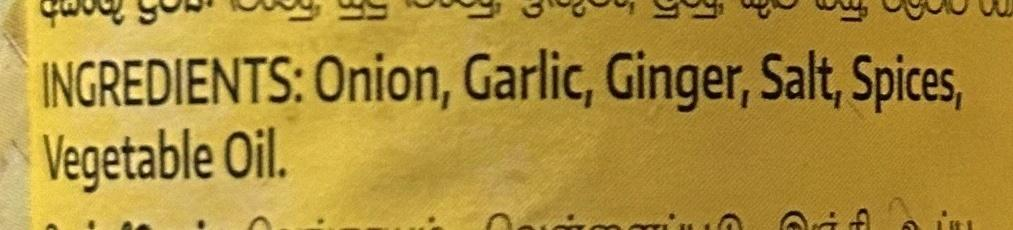ingredients: (33, 49, 992, 198)
